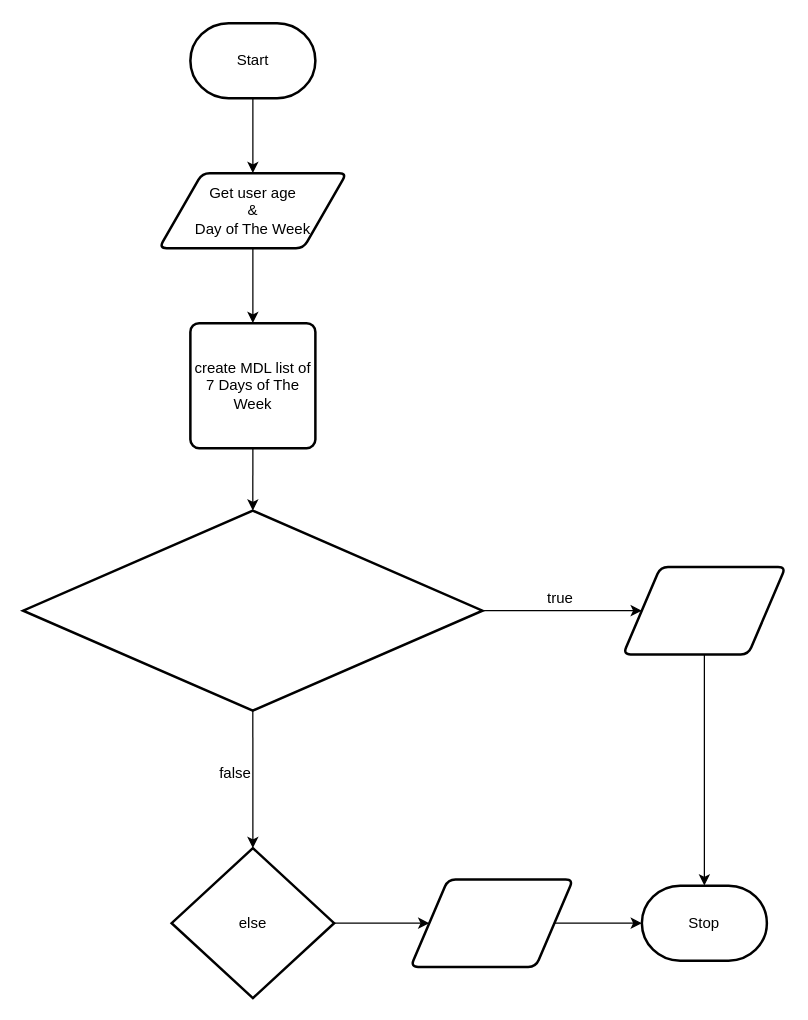
Image size: 808x1020. Some labels were removed from this diagram. Each missing label, with the box of its shape:
"You must pay in regular pricing": (409, 878, 574, 968)
"You're eligible for student discount!": (621, 565, 786, 655)
if ((day == "Tuesday" || day == "Thursday") || (age > 12 && < 21)): (21, 509, 483, 711)
